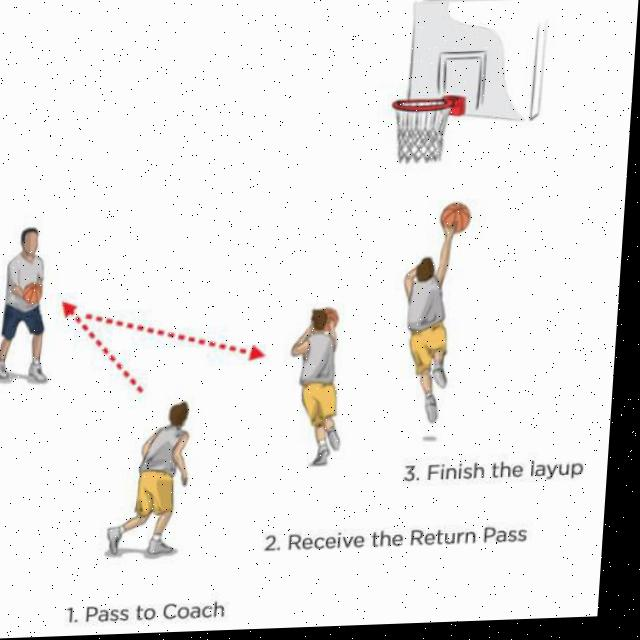basketball: (439, 201, 473, 234), (317, 306, 340, 332), (22, 282, 42, 305)
hoop: (388, 98, 453, 165)
